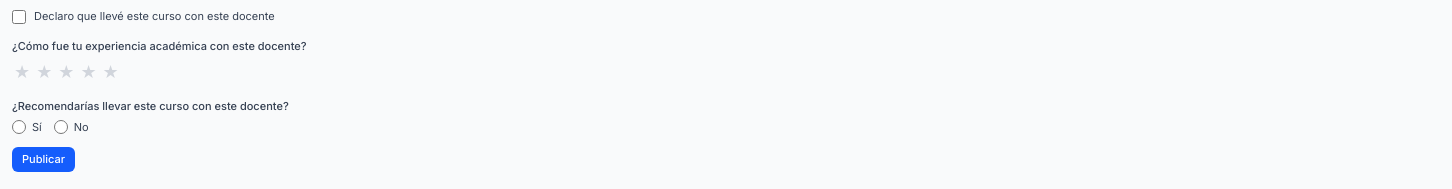
Test case: ReviewDialog — publicar › ante un duplicado muestra la reseña que ya existía y no cierra
This screenshot has width=1452, height=189.
Click the checkbox at (19, 17), box [12,10,26,24]
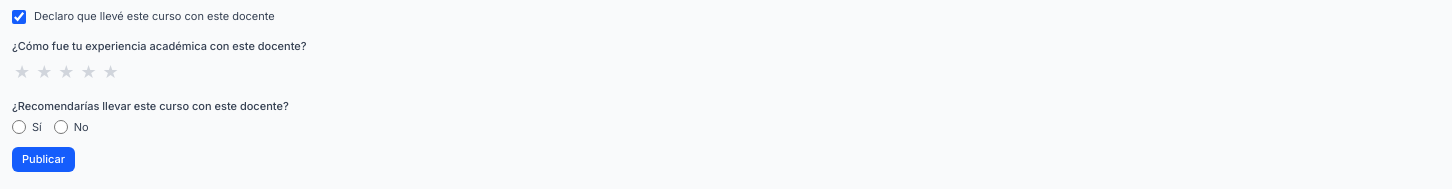
Click the radio button named "4 estrellas" at (88, 72), box [78,58,98,86]
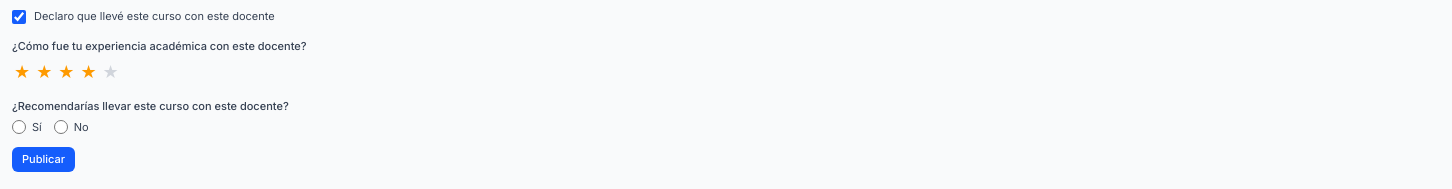
Click the radio button labelled "Sí" at (19, 127), box [12,120,26,134]
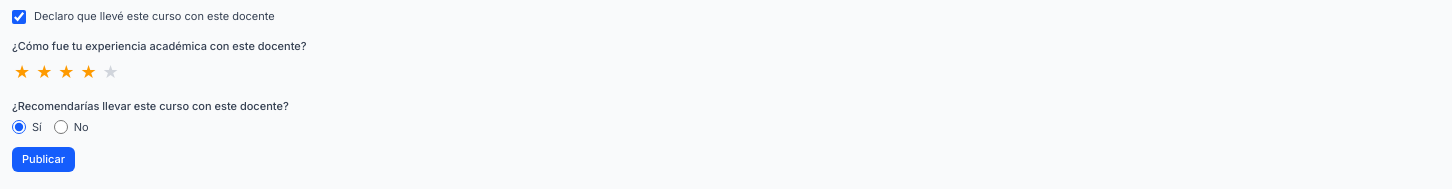
Click the button "Publicar" at (44, 160), box [12,147,75,172]
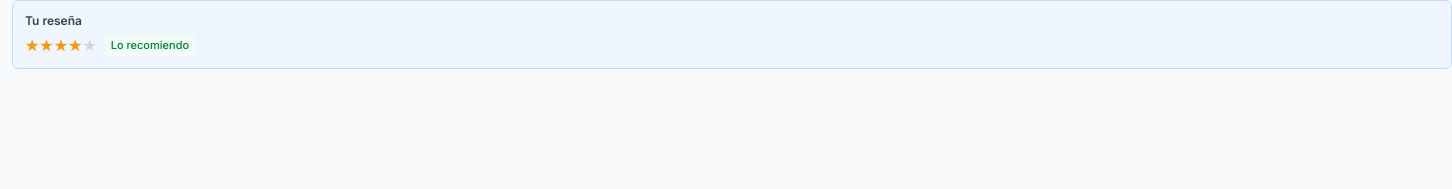
Now the text "Tu reseña" is shown, box [25,13,82,28]
